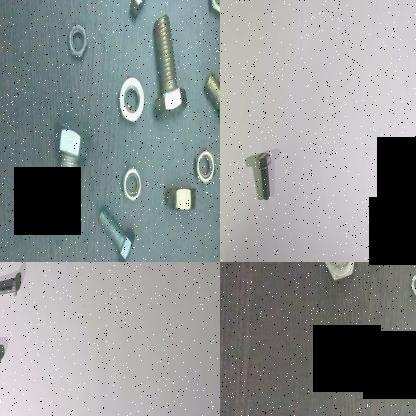Bolts: (44, 112, 91, 222), (148, 16, 195, 124), (93, 201, 138, 262), (324, 324, 358, 394), (203, 64, 220, 152), (319, 262, 359, 289), (254, 148, 272, 202), (0, 277, 20, 302), (405, 357, 416, 393), (407, 262, 416, 298)
NUTS: (113, 60, 146, 128), (166, 178, 201, 224), (64, 13, 92, 63), (116, 160, 147, 204), (188, 148, 218, 186), (123, 0, 149, 20)
